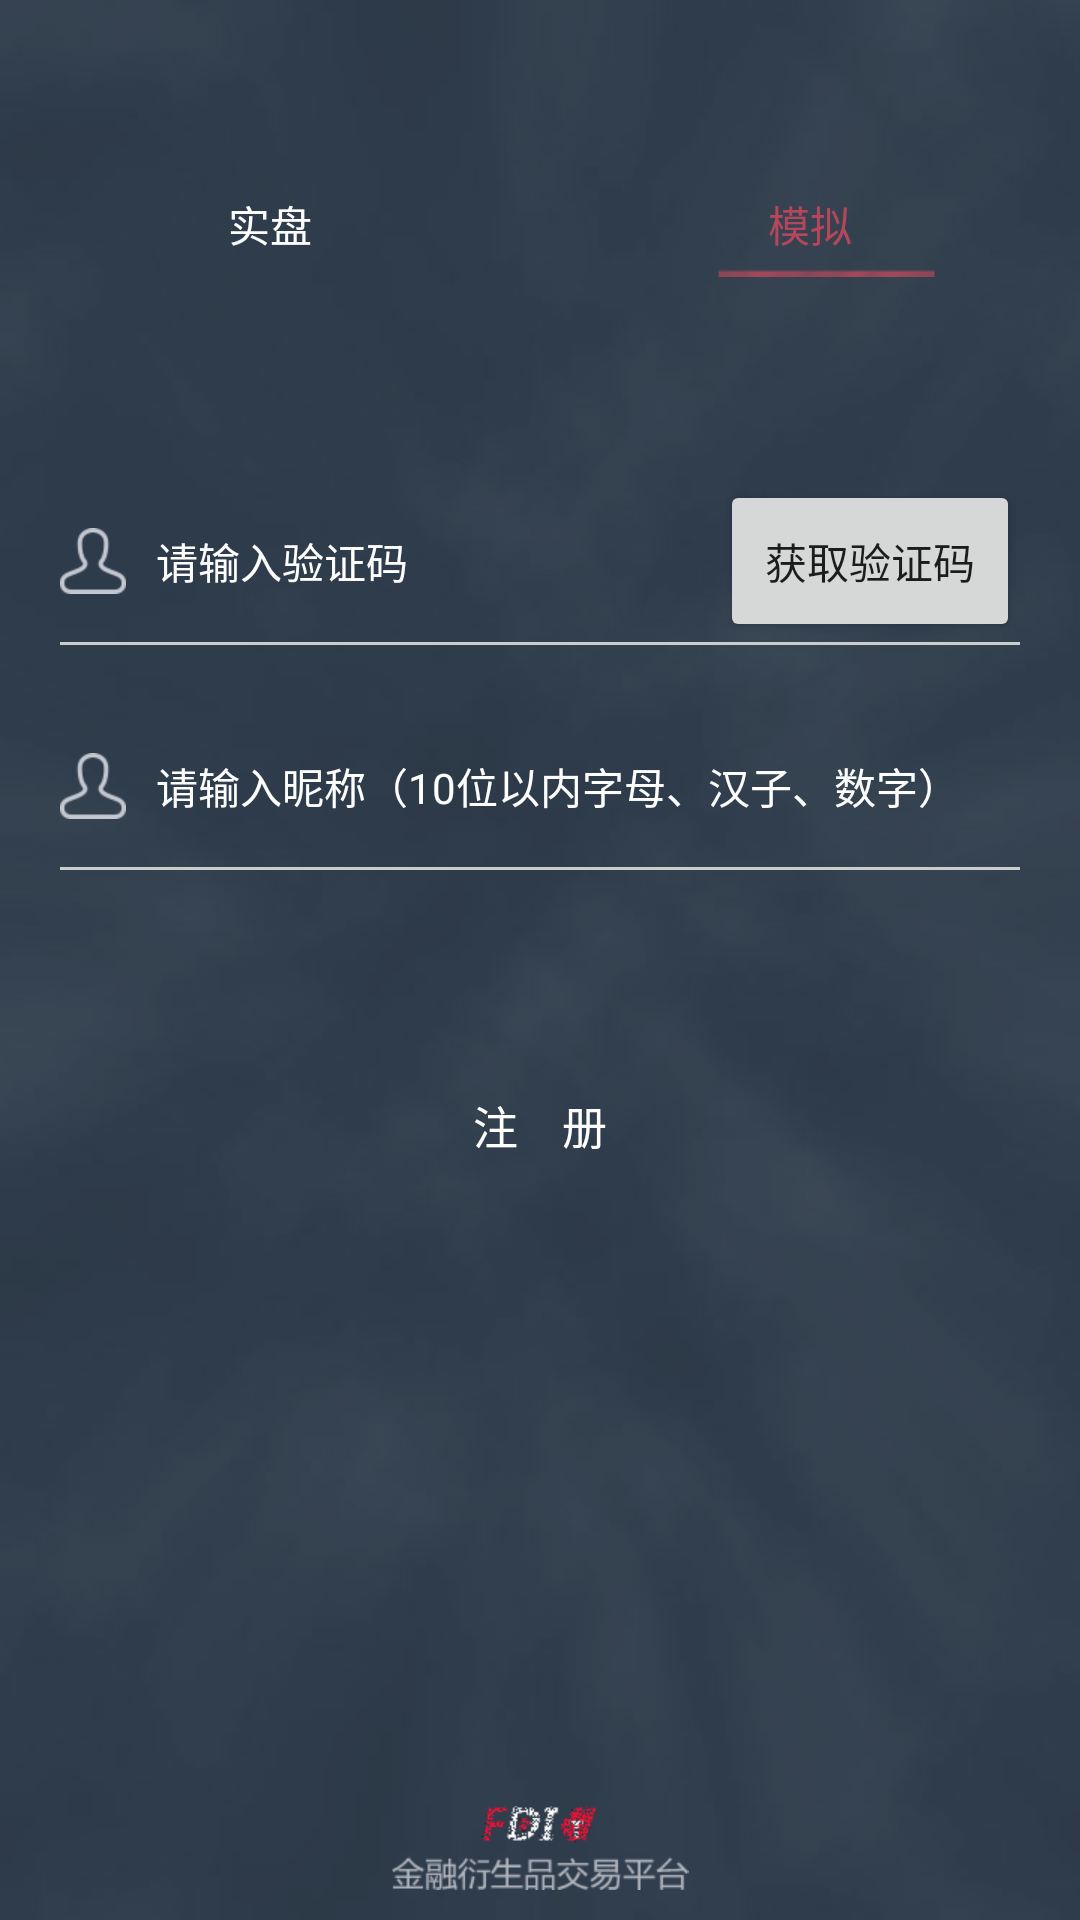

Icons on this 1080 x 1920 Android screen, each with the point to tap as [x,y]:
person main: [93,561], [93,786]
